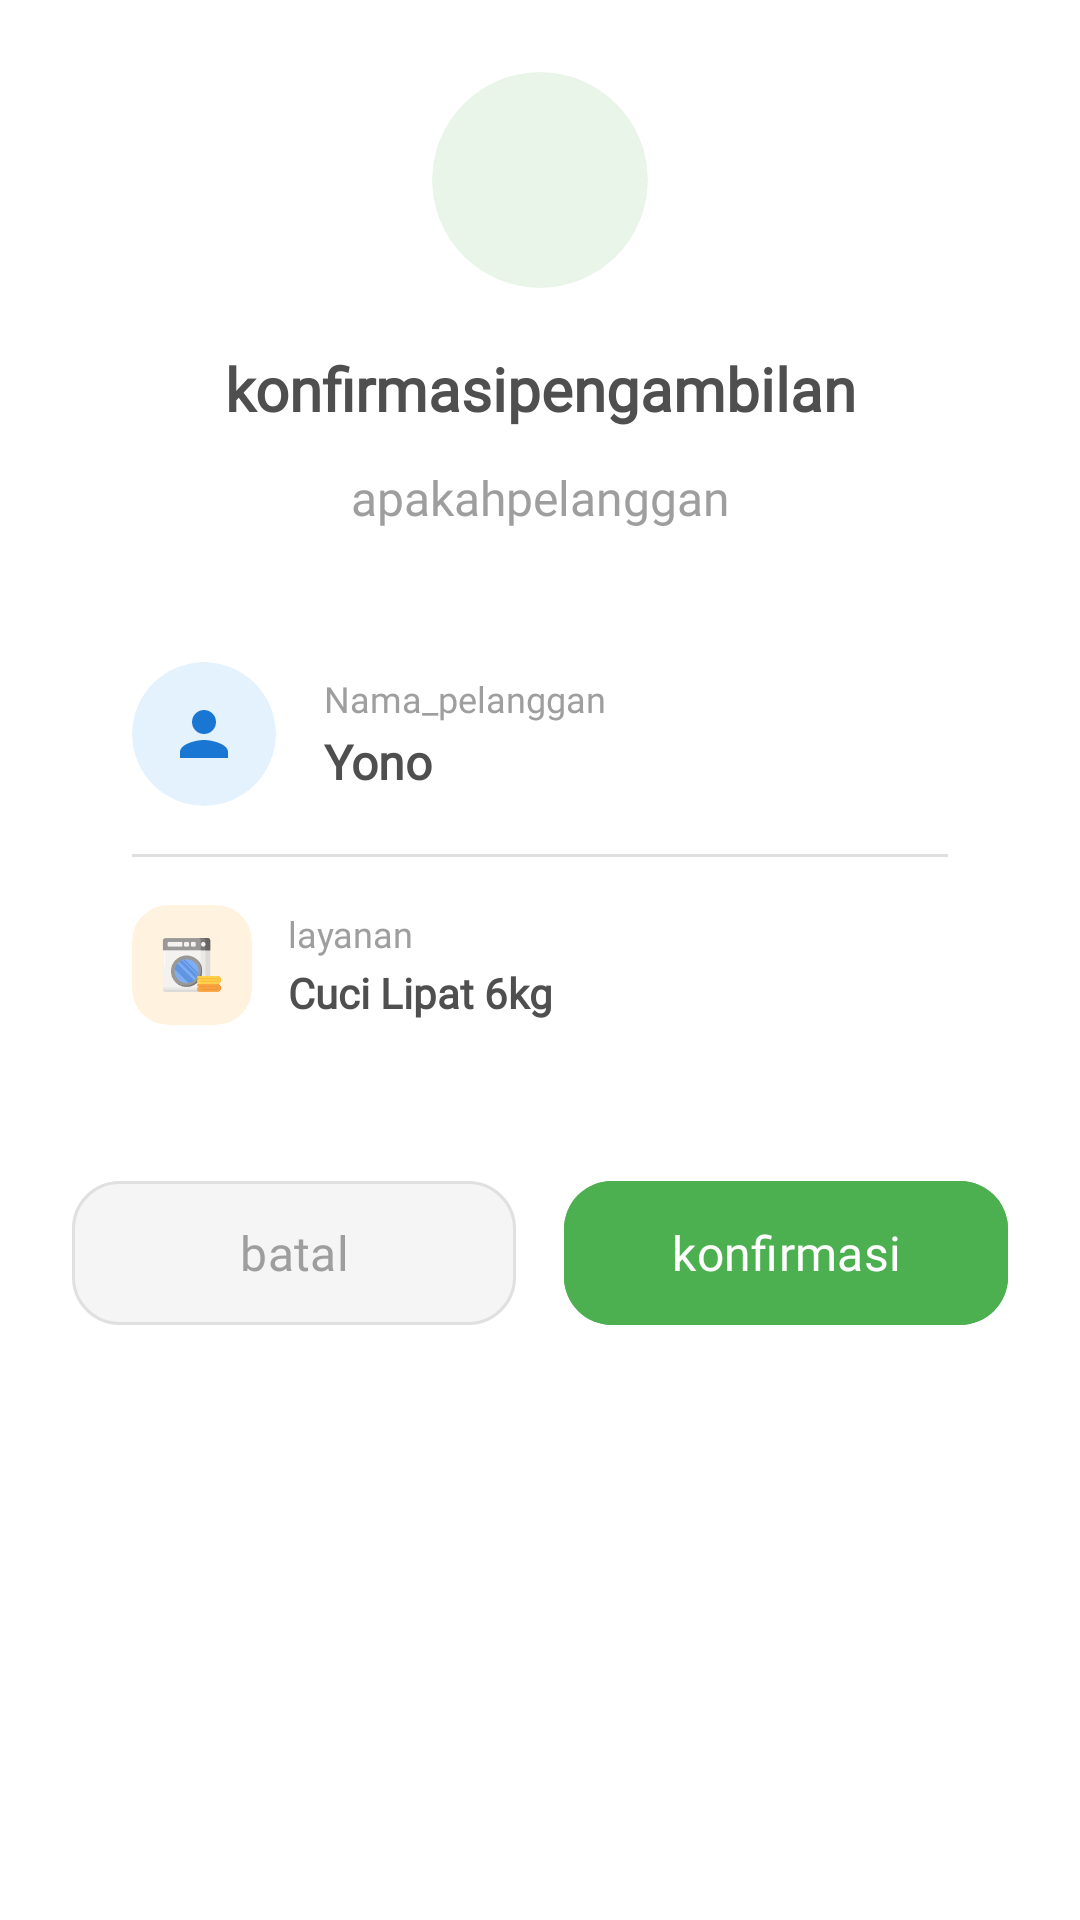

Named icons in this screenshot (1080px×1920px) and their bounding boxes, (x1, y1, x2, y2):
mesincuci: (163, 938, 221, 992)
person: (180, 710, 228, 758)
